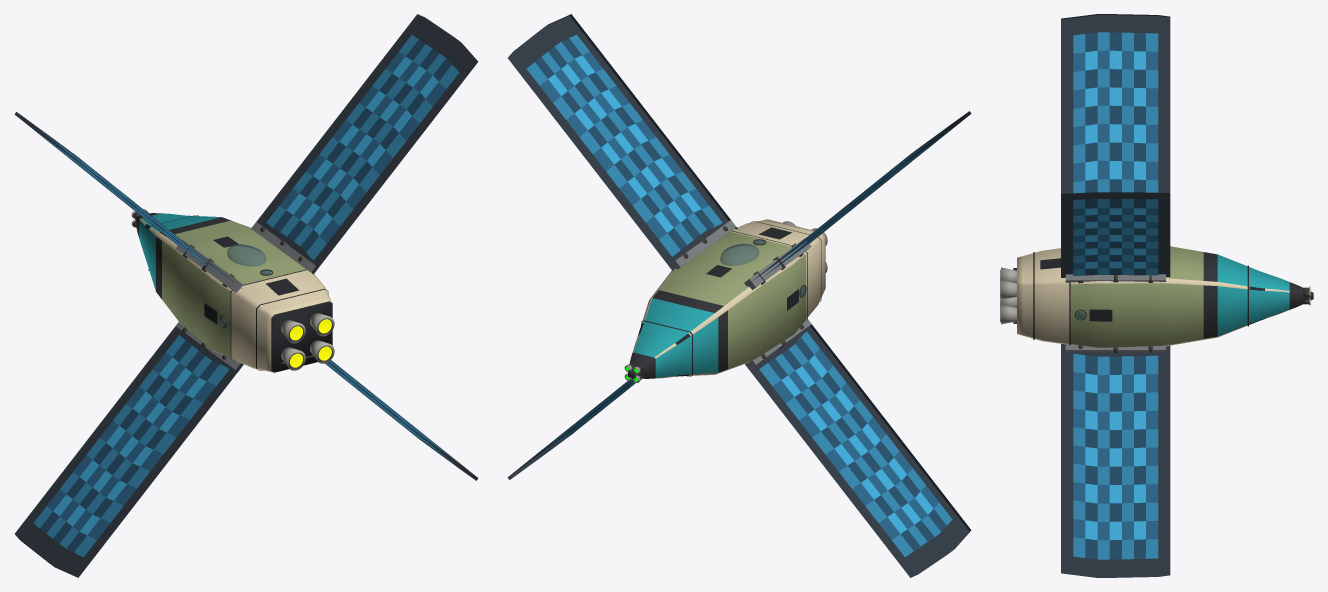
Rendered from Ship_Crosspanel_17.glb.
The picture shows the model from 3 angles, left to right: view 1: azimuth 30°, elevation 25°; view 2: azimuth 150°, elevation 25°; view 3: azimuth 270°, elevation 25°; orthographic projection. The views are drawn at different scales.
Visible parts, largest first — view 1: SolarPanelWing_LowerLeftRidge_RectangularPhotovoltaicGrid, SolarPanelWing_TopRightRidge_RectangularPhotovoltaicGrid, Fuselage_SquareBody, SolarPanelWing_TopLeftRidge_RectangularPhotovoltaicGrid, SolarPanelWing_LowerRightRidge_RectangularPhotovoltaicGrid, SolarPanelWing_TopLeftRidge_RootHingeClamp, Canopy_DorsalLowSquareBubble, SolarPanelWing_TopRightRidge_RootHingeClamp, EngineEmitter; view 2: SolarPanelWing_LowerLeftRidge_RectangularPhotovoltaicGrid, SolarPanelWing_TopRightRidge_RectangularPhotovoltaicGrid, Fuselage_SquareBody, Nose_SquareTaperedForwardSection, SolarPanelWing_TopLeftRidge_RectangularPhotovoltaicGrid, SolarPanelWing_LowerRightRidge_RectangularPhotovoltaicGrid, SolarPanelWing_TopLeftRidge_RootHingeClamp, Canopy_DorsalLowSquareBubble, SolarPanelWing_TopRightRidge_RootHingeClamp; view 3: SolarPanelWing_LowerRightRidge_RectangularPhotovoltaicGrid, SolarPanelWing_TopLeftRidge_RectangularPhotovoltaicGrid, Fuselage_SquareBody, SolarPanelWing_TopRightRidge_RectangularPhotovoltaicGrid, Nose_SquareTaperedForwardSection, SolarPanelWing_TopRightRidge_RootHingeClamp, SolarPanelWing_LowerRightRidge_RootHingeClamp.
Boxes of the visible parts, <box> form: SolarPanelWing_LowerLeftRidge_RectangularPhotovoltaicGrid: <box>15,326,243,577</box>; SolarPanelWing_TopRightRidge_RectangularPhotovoltaicGrid: <box>251,14,478,274</box>; Fuselage_SquareBody: <box>146,215,332,372</box>; SolarPanelWing_TopLeftRidge_RectangularPhotovoltaicGrid: <box>14,112,241,288</box>; SolarPanelWing_LowerRightRidge_RectangularPhotovoltaicGrid: <box>325,360,478,480</box>; SolarPanelWing_TopLeftRidge_RootHingeClamp: <box>176,240,242,292</box>; Canopy_DorsalLowSquareBubble: <box>227,244,266,266</box>; SolarPanelWing_TopRightRidge_RootHingeClamp: <box>251,222,315,272</box>; EngineEmitter: <box>290,319,331,367</box>; SolarPanelWing_LowerLeftRidge_RectangularPhotovoltaicGrid: <box>745,324,971,577</box>; SolarPanelWing_TopRightRidge_RectangularPhotovoltaicGrid: <box>508,14,737,270</box>; Fuselage_SquareBody: <box>639,219,825,376</box>; Nose_SquareTaperedForwardSection: <box>628,331,681,378</box>; SolarPanelWing_TopLeftRidge_RectangularPhotovoltaicGrid: <box>749,111,971,283</box>; SolarPanelWing_LowerRightRidge_RectangularPhotovoltaicGrid: <box>507,378,635,479</box>; SolarPanelWing_TopLeftRidge_RootHingeClamp: <box>744,238,811,289</box>; Canopy_DorsalLowSquareBubble: <box>720,243,759,265</box>; SolarPanelWing_TopRightRidge_RootHingeClamp: <box>669,220,736,269</box>; SolarPanelWing_LowerRightRidge_RectangularPhotovoltaicGrid: <box>1061,344,1170,577</box>; SolarPanelWing_TopLeftRidge_RectangularPhotovoltaicGrid: <box>1061,14,1170,193</box>; Fuselage_SquareBody: <box>1017,246,1259,348</box>; SolarPanelWing_TopRightRidge_RectangularPhotovoltaicGrid: <box>1061,192,1170,277</box>; Nose_SquareTaperedForwardSection: <box>1260,271,1313,320</box>; SolarPanelWing_TopRightRidge_RootHingeClamp: <box>1065,274,1165,282</box>; SolarPanelWing_LowerRightRidge_RootHingeClamp: <box>1065,343,1165,352</box>.
Size of the model in its own units: 9.06 by 9.06 by 6.66.
